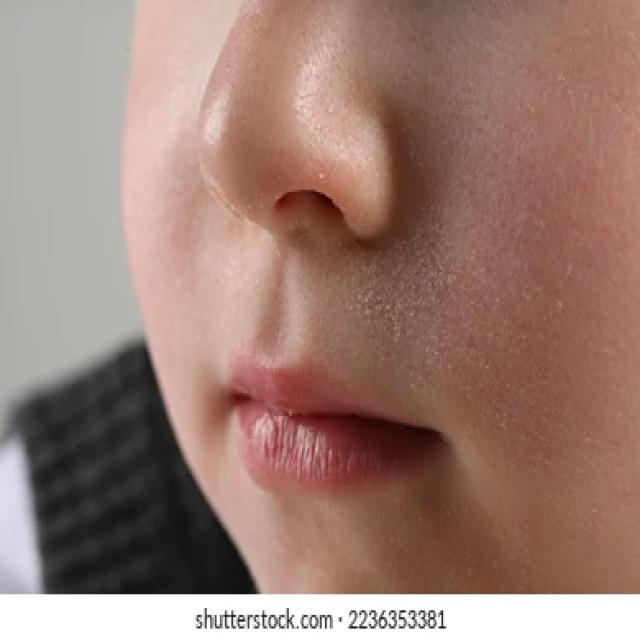flakiness: (357, 240, 485, 365)
